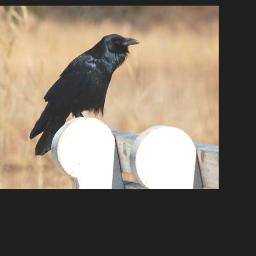Crow: (29, 34, 140, 157)
